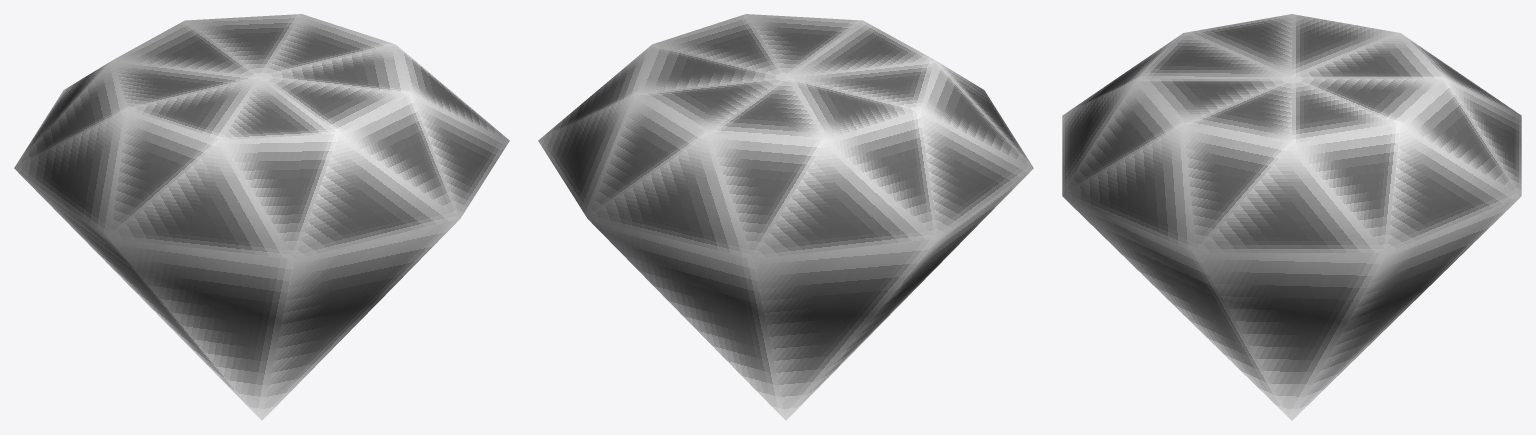
Rendered from Gem.obj.
3 views of the same model, side by side, from view 1: azimuth 30°, elevation 25°; view 2: azimuth 150°, elevation 25°; view 3: azimuth 270°, elevation 25° (orthographic).
Parts seen in each view (by area): view 1: Gem; view 2: Gem; view 3: Gem.
Part boxes in pixels (x1,y1,x2,y2): Gem: (14, 14, 509, 420); Gem: (538, 14, 1033, 420); Gem: (1062, 14, 1521, 420).
Size of the model in its own units: 48 by 39.41 by 48.
Materials: 1 (1 with a texture image).
